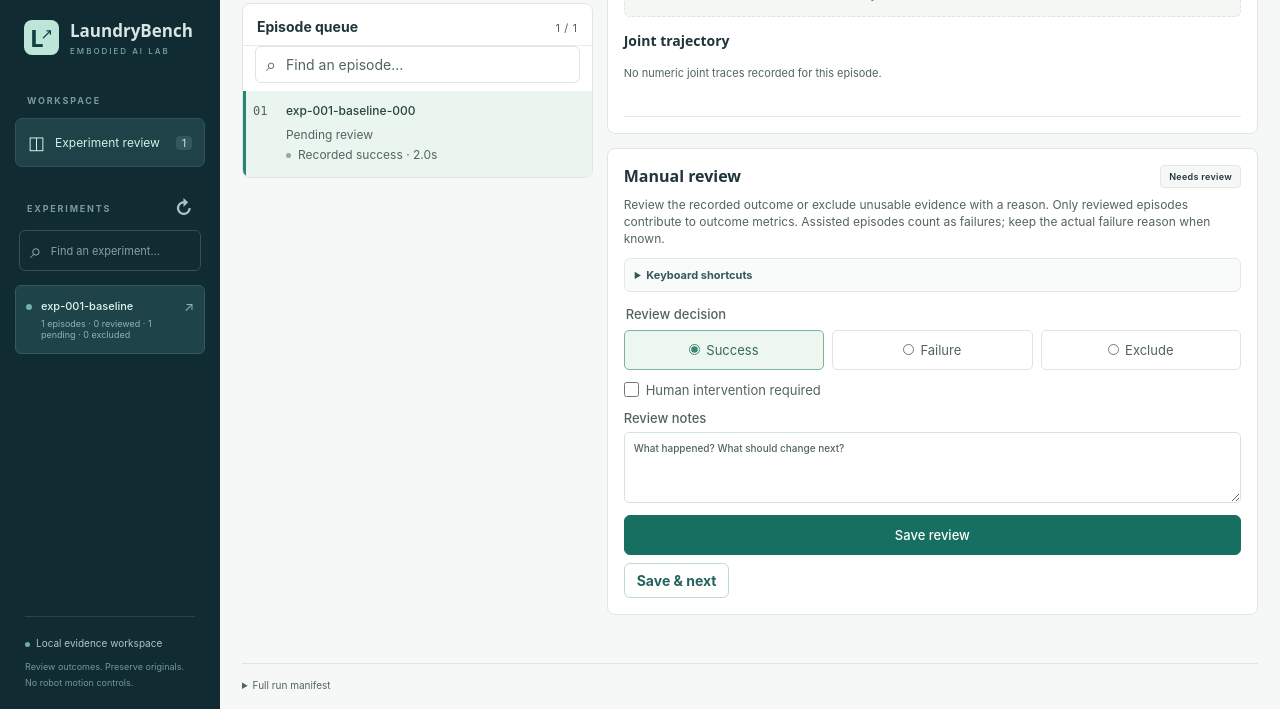
Scenario: saves a manual review with the current revision and preserves original evidence
(page scrolled)
Expected: the heading "Manual review" is shown, [624,165,741,187]
Click the radio button labelled "Failure": point(909, 350) [903,344,914,355]
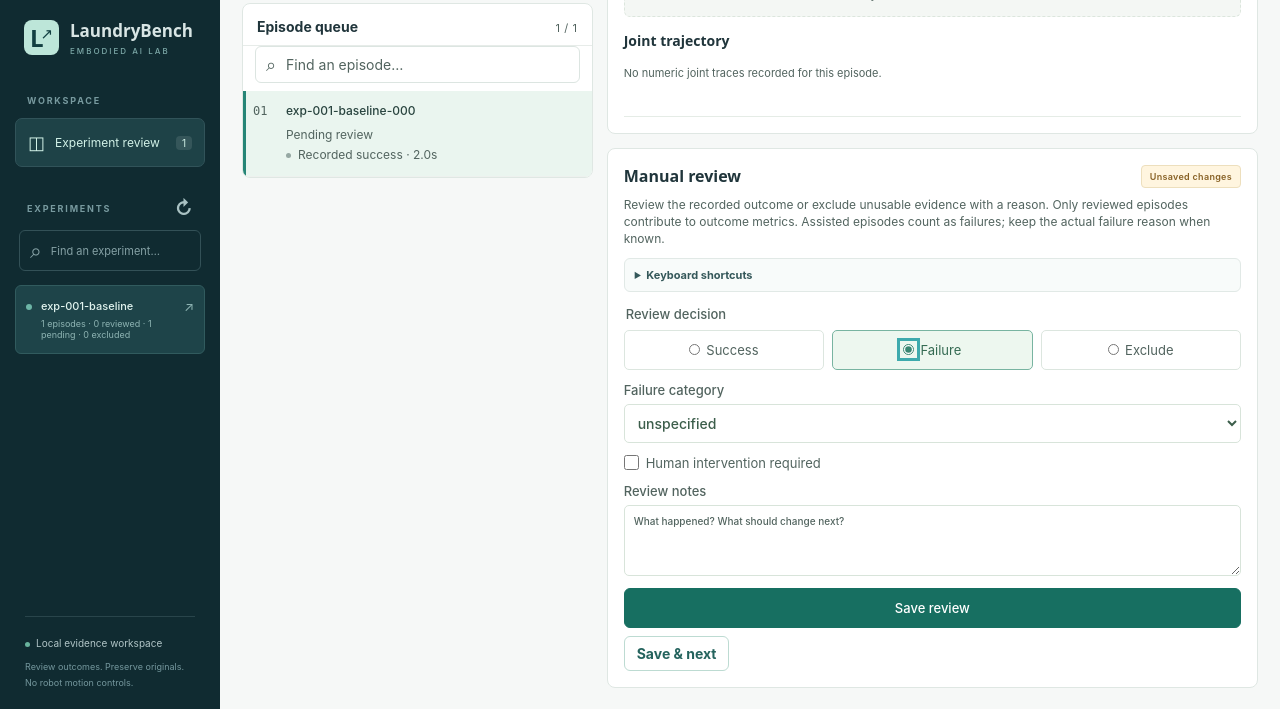
Select "missed grasp" in the dropdown labelled "Failure category": point(932, 423) [624,404,1241,443]
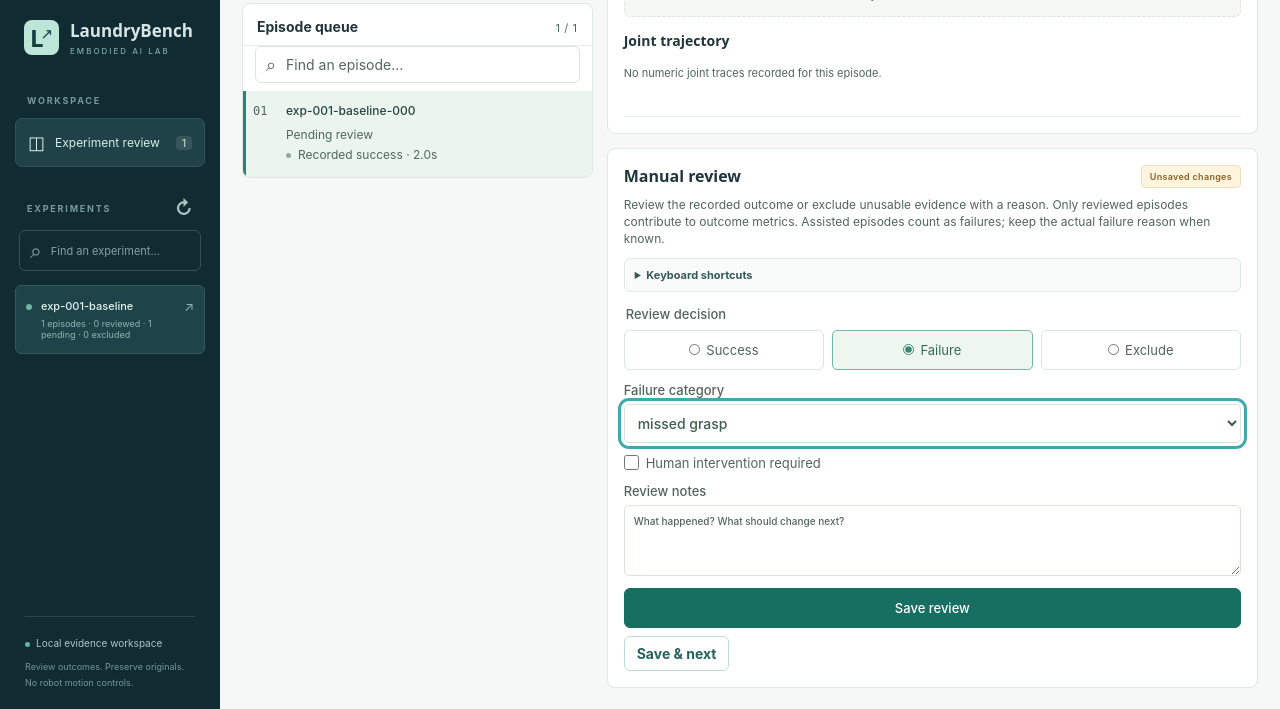
In the text box labelled "Review notes": point(932, 540) [624,505,1241,576], type "Observed slip"
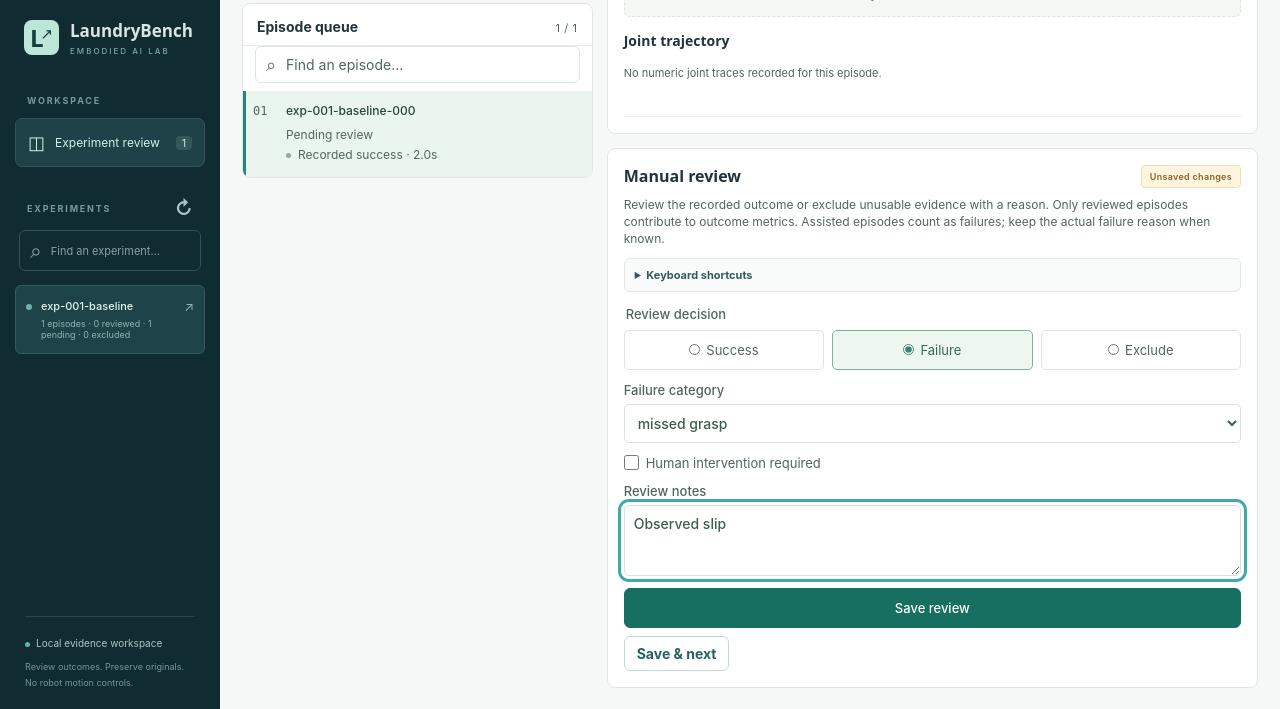
Click the button "Save review": point(932, 608) [624,588,1241,628]
(page scrolled)
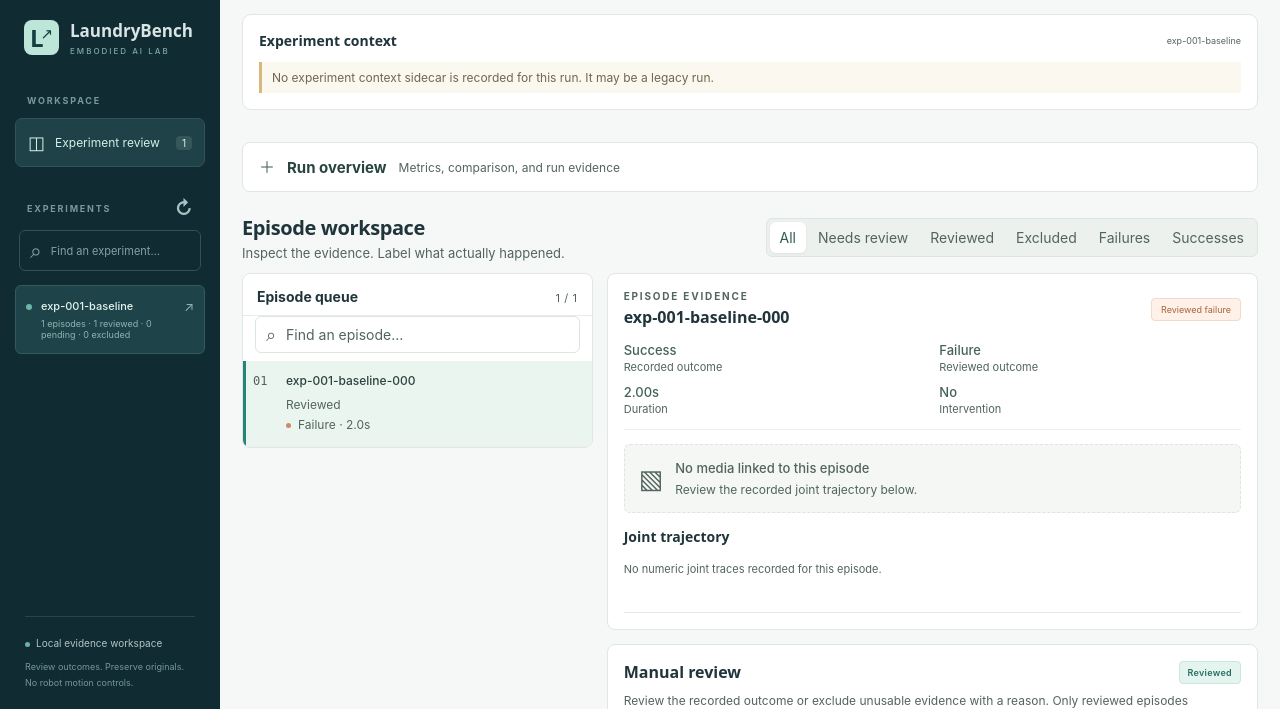
Expected: the text "Success" is shown, [624,342,677,358]
Now the text "Reviewed" is shown, box [1178,661,1241,684]
